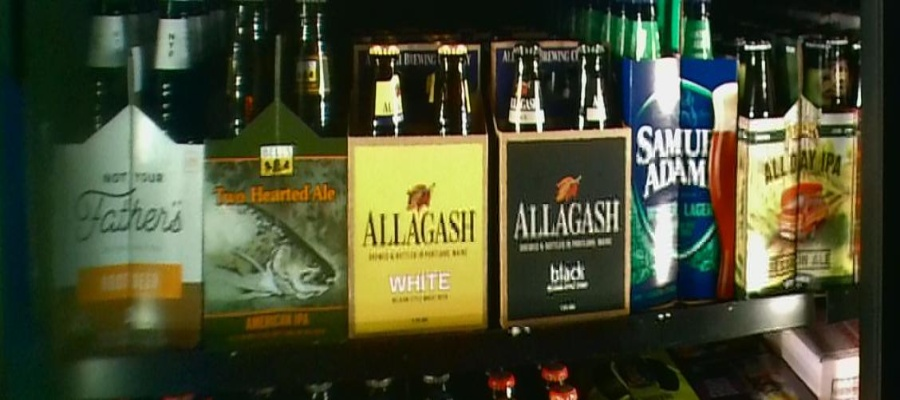bottle: (52, 2, 205, 353), (207, 2, 346, 346), (348, 1, 489, 333), (491, 4, 629, 320), (629, 2, 735, 307), (739, 29, 859, 293)
